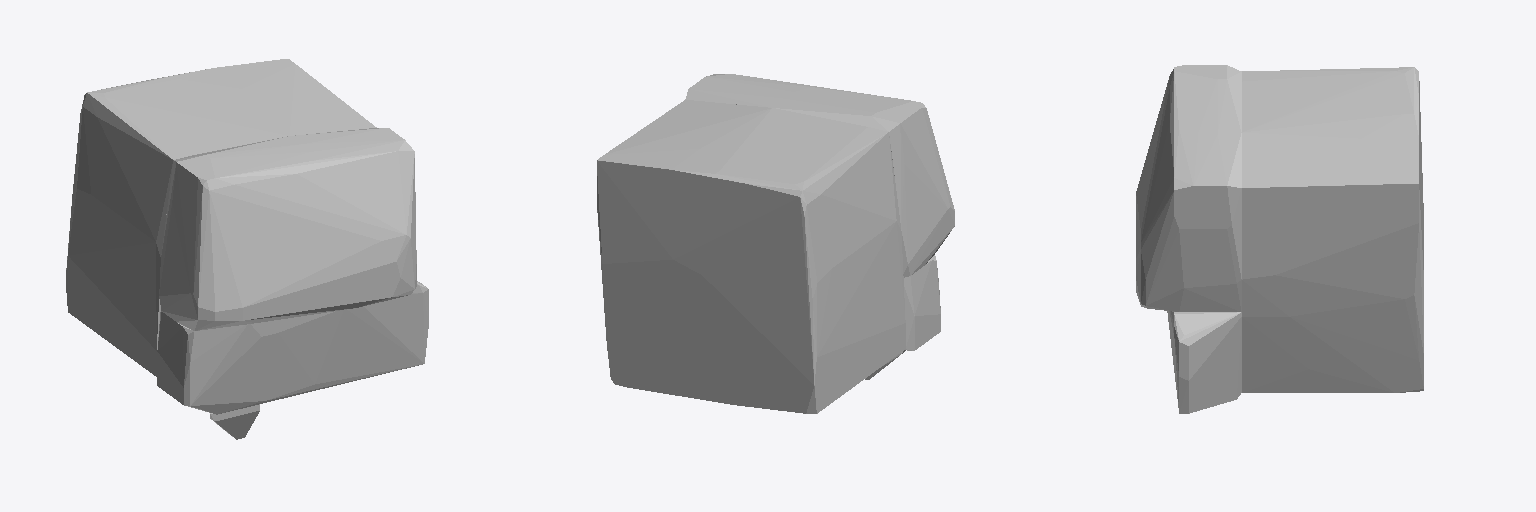
The model's file is KS_Chocolate_Cube_Box_Assortment_By_Neuhaus_2010_Ounces_collision.obj.
3 views of the same model, side by side, from view 1: azimuth 30°, elevation 25°; view 2: azimuth 150°, elevation 25°; view 3: azimuth 270°, elevation 25° (orthographic).
Parts seen in each view (by area): view 1: convex_1, convex_0, convex_3, convex_2; view 2: convex_0, convex_1, convex_3; view 3: convex_0, convex_1, convex_3.
Part boxes in pixels (left/top/right/bottom): convex_1: left=159, top=128, right=416, bottom=330; convex_0: left=66, top=59, right=376, bottom=376; convex_3: left=157, top=281, right=428, bottom=414; convex_2: left=210, top=404, right=259, bottom=439; convex_0: left=597, top=100, right=905, bottom=413; convex_1: left=685, top=74, right=954, bottom=277; convex_3: left=904, top=255, right=940, bottom=350; convex_0: left=1242, top=67, right=1423, bottom=392; convex_1: left=1136, top=65, right=1241, bottom=311; convex_3: left=1167, top=311, right=1241, bottom=413.
Size of the model in its own units: 0.12 by 0.1302 by 0.122.